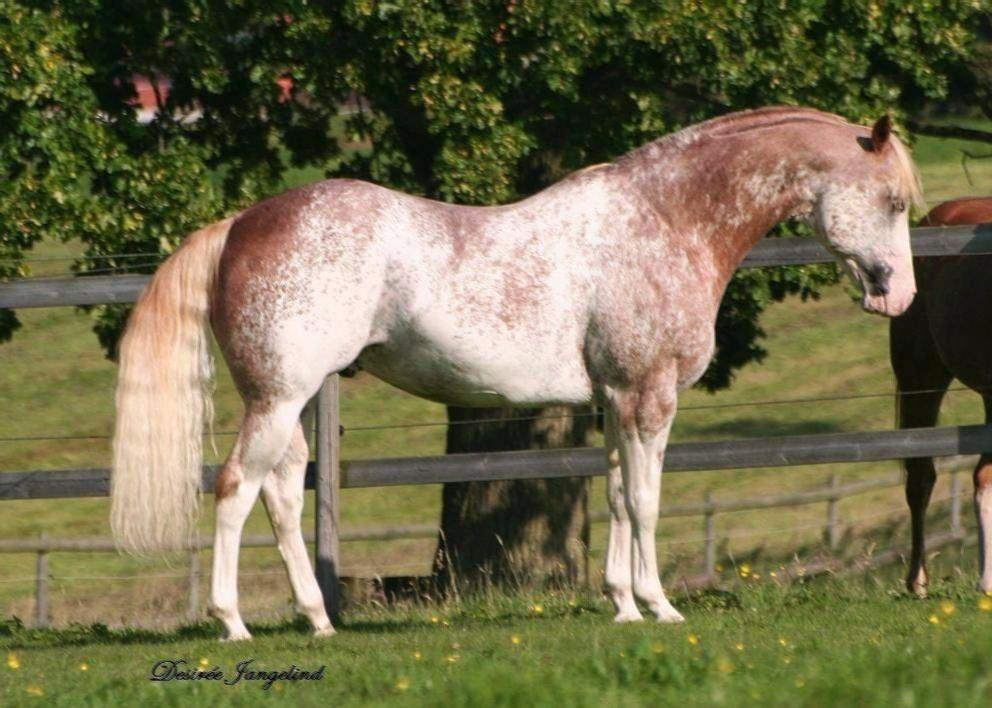horse: (107, 103, 924, 642), (888, 194, 991, 599)
